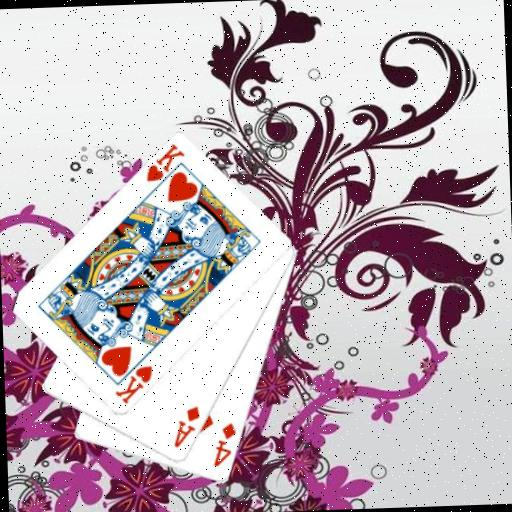4D: (209, 420, 239, 468)
AD: (169, 403, 203, 450)
KH: (111, 362, 156, 406), (141, 140, 186, 184)
